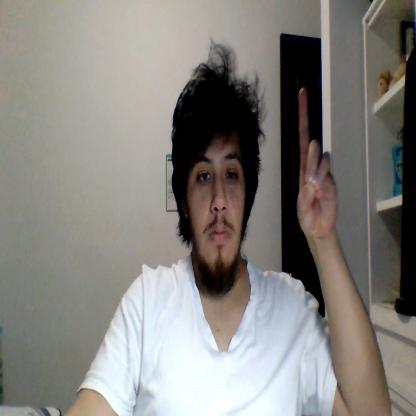D: (298, 87, 338, 237)
